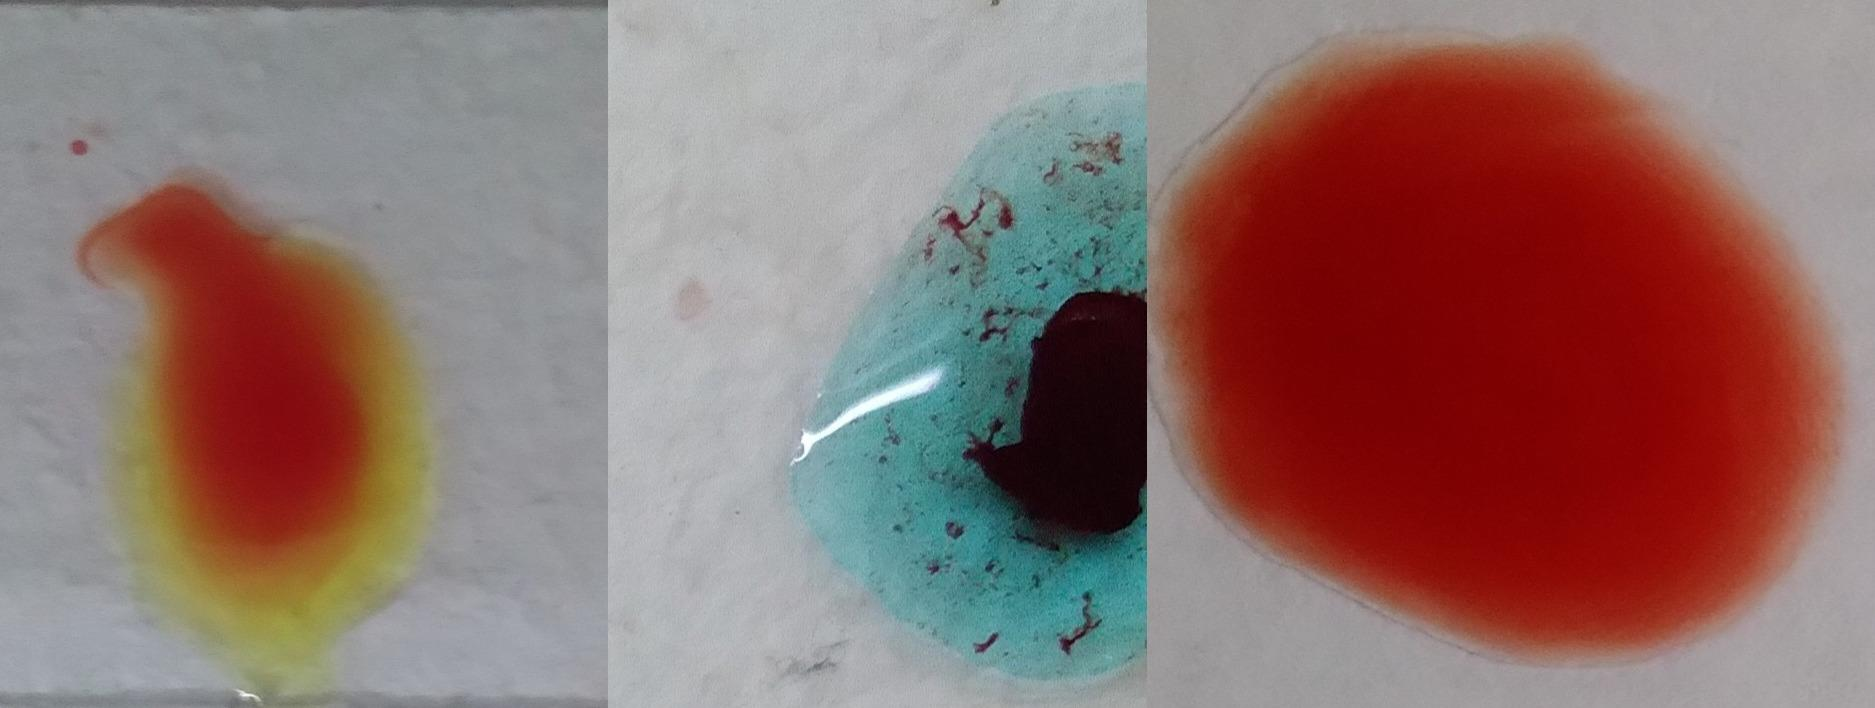A: (836, 116, 1143, 675)
